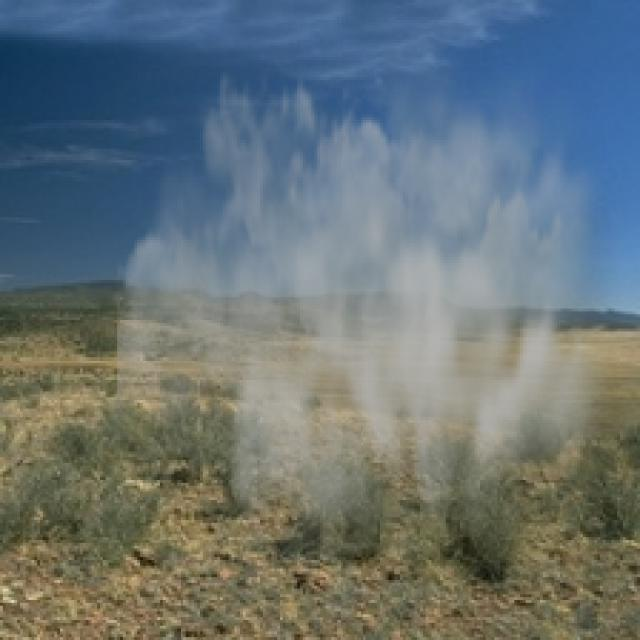smoke: (117, 20, 637, 569)
